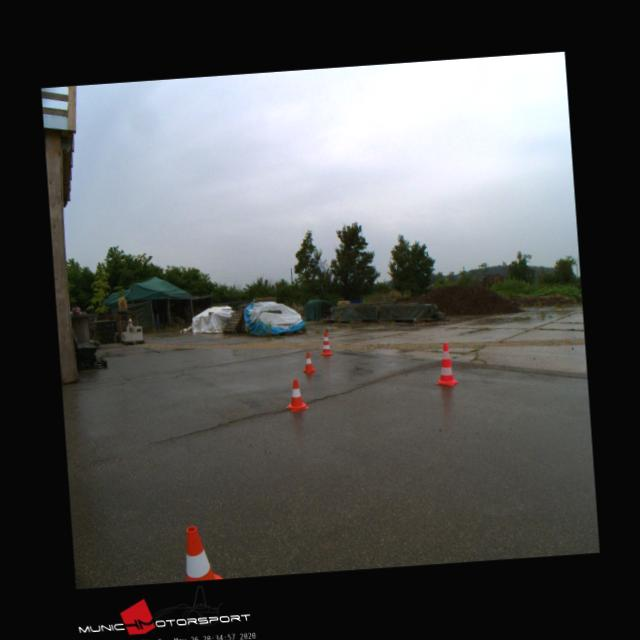large_orange_cone: (432, 342, 458, 385), (318, 330, 332, 354)
orange_cone: (182, 524, 222, 581), (284, 378, 308, 411), (301, 352, 315, 372)
